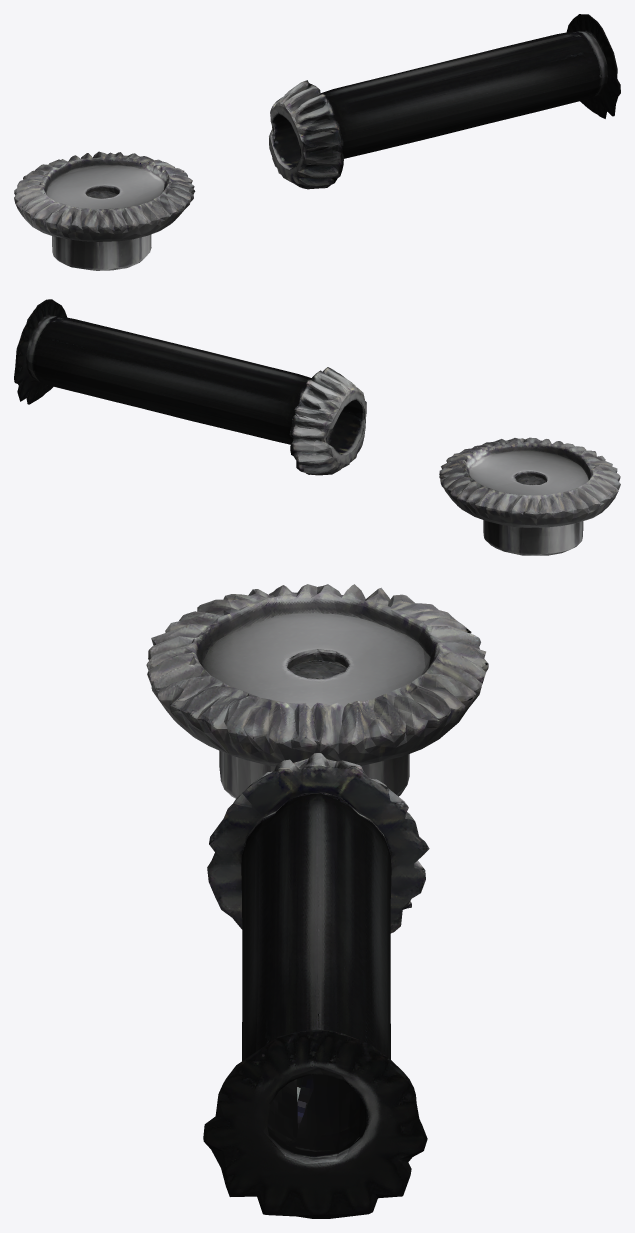
Rendered from bevel-gears.glb.
3 views of the same model, one above another, from view 1: azimuth 30°, elevation 25°; view 2: azimuth 150°, elevation 25°; view 3: azimuth 270°, elevation 25° (orthographic). The views are drawn at different scales.
Visible parts, largest first — view 1: world; view 2: world; view 3: world.
Boxes of the visible parts, x1,y1,x2,y2 form: world: (14,14,620,270); world: (14,299,620,555); world: (146,584,488,1218).
Bounding box in the file's own units: 1 × 0.1922 × 0.2606.
1 material, 1 textured.
